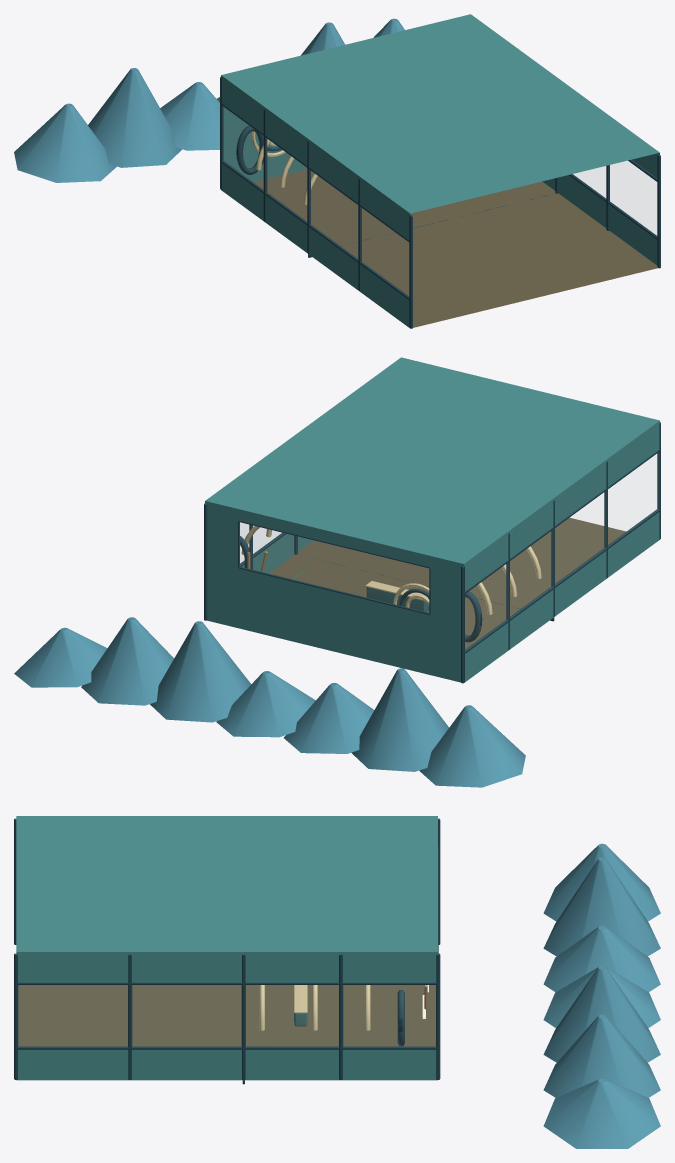
File: cantina.glb
3 renders of one model, top to bottom at view 1: azimuth 30°, elevation 25°; view 2: azimuth 150°, elevation 25°; view 3: azimuth 270°, elevation 25°, orthographic. The views are drawn at different scales.
Visible parts, largest first — view 1: Roof panels - Wall, Floor extension - Floor, Outside the glazing - Glass rim, Port wall - Wall, Floor - Floor, Port wall - Rib, Starboard wall - Wall, Rear bulkhead - Wall, Starboard wall - Rib, Signature architecture - Pale, Signature architecture - Rib; view 2: Roof panels - Wall, Outside the glazing - Glass rim, Rear bulkhead - Wall, Port wall - Wall, Floor extension - Floor, Floor - Floor, Port wall - Rib, Rear bulkhead - Rib, Starboard wall - Wall, Signature architecture - Pale, Starboard wall - Rib, Signature architecture - Rib; view 3: Roof panels - Wall, Outside the glazing - Glass rim, Starboard wall - Wall, Floor extension - Floor, Floor - Floor, Starboard wall - Rib, Signature architecture - Pale, Port wall - Rib.
Boxes of the visible parts, x1,y1,x2,y2 form: Roof panels - Wall: [221, 14, 659, 213]; Floor extension - Floor: [341, 193, 657, 327]; Outside the glazing - Glass rim: [14, 18, 404, 182]; Port wall - Wall: [221, 75, 410, 327]; Floor - Floor: [253, 169, 555, 245]; Port wall - Rib: [220, 77, 412, 328]; Starboard wall - Wall: [542, 153, 659, 265]; Rear bulkhead - Wall: [223, 107, 307, 181]; Starboard wall - Rib: [555, 154, 660, 268]; Signature architecture - Pale: [252, 131, 318, 204]; Signature architecture - Rib: [236, 125, 281, 174]; Roof panels - Wall: [205, 357, 659, 563]; Outside the glazing - Glass rim: [14, 617, 525, 787]; Rear bulkhead - Wall: [205, 501, 463, 682]; Port wall - Wall: [464, 421, 659, 682]; Floor extension - Floor: [297, 517, 626, 608]; Floor - Floor: [269, 554, 519, 649]; Port wall - Rib: [461, 422, 660, 683]; Rear bulkhead - Rib: [238, 520, 430, 614]; Starboard wall - Wall: [242, 534, 313, 573]; Signature architecture - Pale: [241, 526, 541, 614]; Starboard wall - Rib: [204, 503, 297, 620]; Signature architecture - Rib: [240, 536, 482, 642]; Roof panels - Wall: [16, 816, 437, 951]; Outside the glazing - Glass rim: [543, 843, 660, 1148]; Starboard wall - Wall: [16, 952, 437, 1080]; Floor extension - Floor: [18, 985, 241, 1046]; Floor - Floor: [246, 985, 435, 1046]; Starboard wall - Rib: [14, 953, 440, 1079]; Signature architecture - Pale: [259, 985, 370, 1030]; Port wall - Rib: [14, 818, 440, 944].
Bounding box in the file's own units: 36.79 × 9.43 × 38.64.
